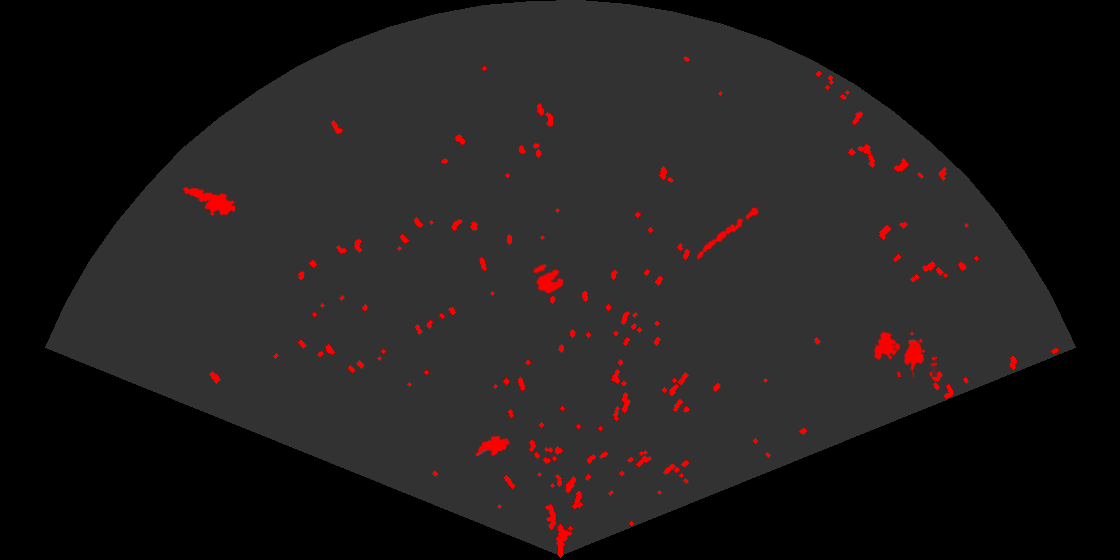AUV: (473, 434, 512, 458)
ball: (531, 262, 566, 296)
cage: (872, 330, 937, 377)
chain: (695, 203, 763, 261)
frogman: (181, 186, 235, 218)
